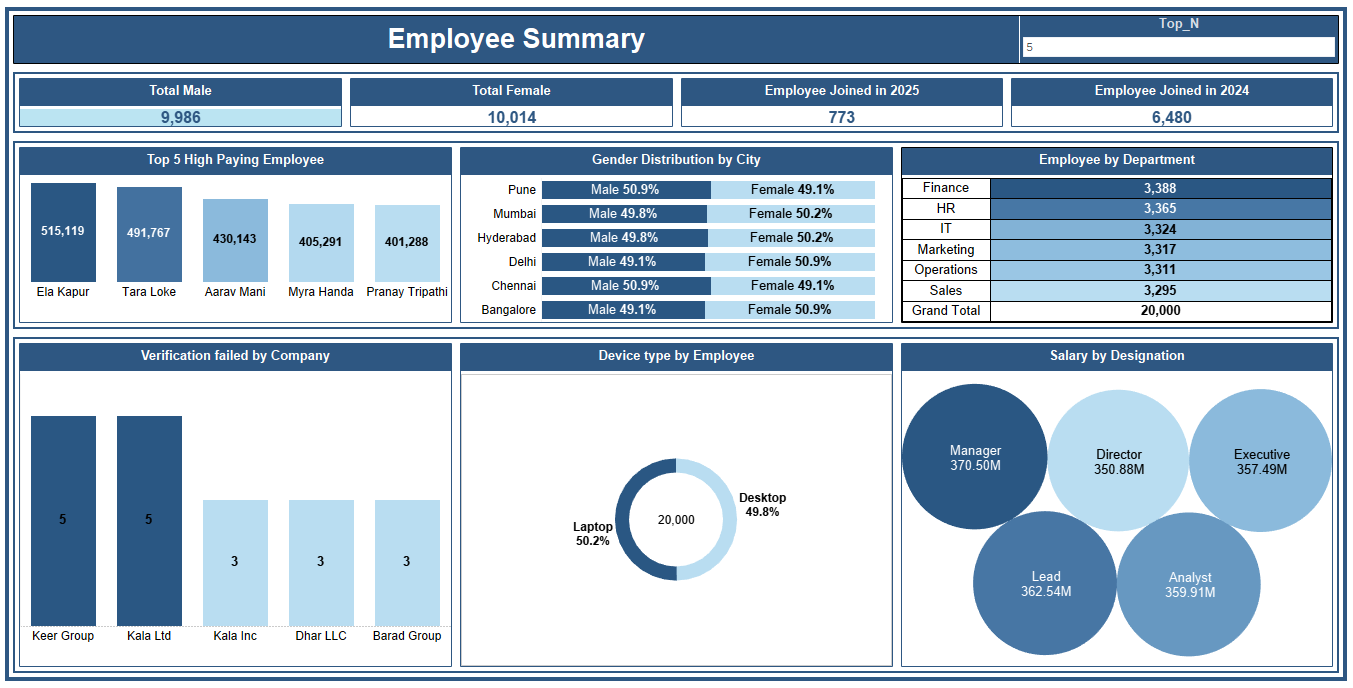

The dashboard page shown, as its layout file describes it:
{"tool":"tableau","page":{"name":"Summary","canvas":[1000,1000],"units":"permille","ordinal":0},"visuals":[{"type":"text","box":[18.2,38.1,870.1,85.1]},{"type":"parameter","param":"[Parameters].[Parameter 1]","box":[888.3,38.1,93.5,85.1]},{"type":"worksheet","title":"Total Male","mark":"Automatic","box":[19.1,143.1,240.7,103.3]},{"type":"worksheet","title":"Total Female","mark":"Automatic","box":[259.7,143.1,240.7,103.3]},{"type":"worksheet","title":"Employee Joined in 2025","mark":"Automatic","box":[500.4,143.1,240.7,103.3]},{"type":"worksheet","title":"Employee Joined in 2024","mark":"Automatic","box":[741.1,143.1,239.8,103.3]},{"type":"worksheet","title":"Top 5 High Paying Employee","mark":"Automatic","rows":["Salary"],"cols":["Employee Name"],"box":[19.1,268.1,321.2,333.3]},{"type":"worksheet","title":"Gender Distribution by City","mark":"Automatic","rows":["Office Location"],"box":[340.3,268.1,320.4,333.3]},{"type":"worksheet","title":"Employee by Department","mark":"Square","rows":["Department"],"box":[660.6,268.1,320.3,333.3]},{"type":"worksheet","title":"Verification failed by Company","mark":"Automatic","rows":["Employee_ID"],"cols":["Previous Company"],"box":[19.1,623.2,321.2,336.9]},{"type":"worksheet","title":"Device type by Employee","mark":"Pie","rows":["Calculation_838232488604979200","Calculation_838232488604979200"],"box":[340.3,623.2,320.4,336.9]},{"type":"worksheet","title":"Salary by Designation","mark":"Circle","box":[660.6,623.2,320.3,336.9]}]}

Visuals, with their boxes on the dashboard's canvas, which has no fixed pixel size, in thousandths of its width and height (x1, y1, x2, y2). These are canvas units, not pixel positions in the 1353x688 screenshot, which may show the page scaled, cropped or inside an application window:
text: 18/38/888/123
parameter: 888/38/982/123
"Total Male" worksheet: 19/143/260/246
"Total Female" worksheet: 260/143/500/246
"Employee Joined in 2025" worksheet: 500/143/741/246
"Employee Joined in 2024" worksheet: 741/143/981/246
"Top 5 High Paying Employee" worksheet: 19/268/340/601
"Gender Distribution by City" worksheet: 340/268/661/601
"Employee by Department" worksheet (Square marks): 661/268/981/601
"Verification failed by Company" worksheet: 19/623/340/960
"Device type by Employee" worksheet (Pie marks): 340/623/661/960
"Salary by Designation" worksheet (Circle marks): 661/623/981/960
